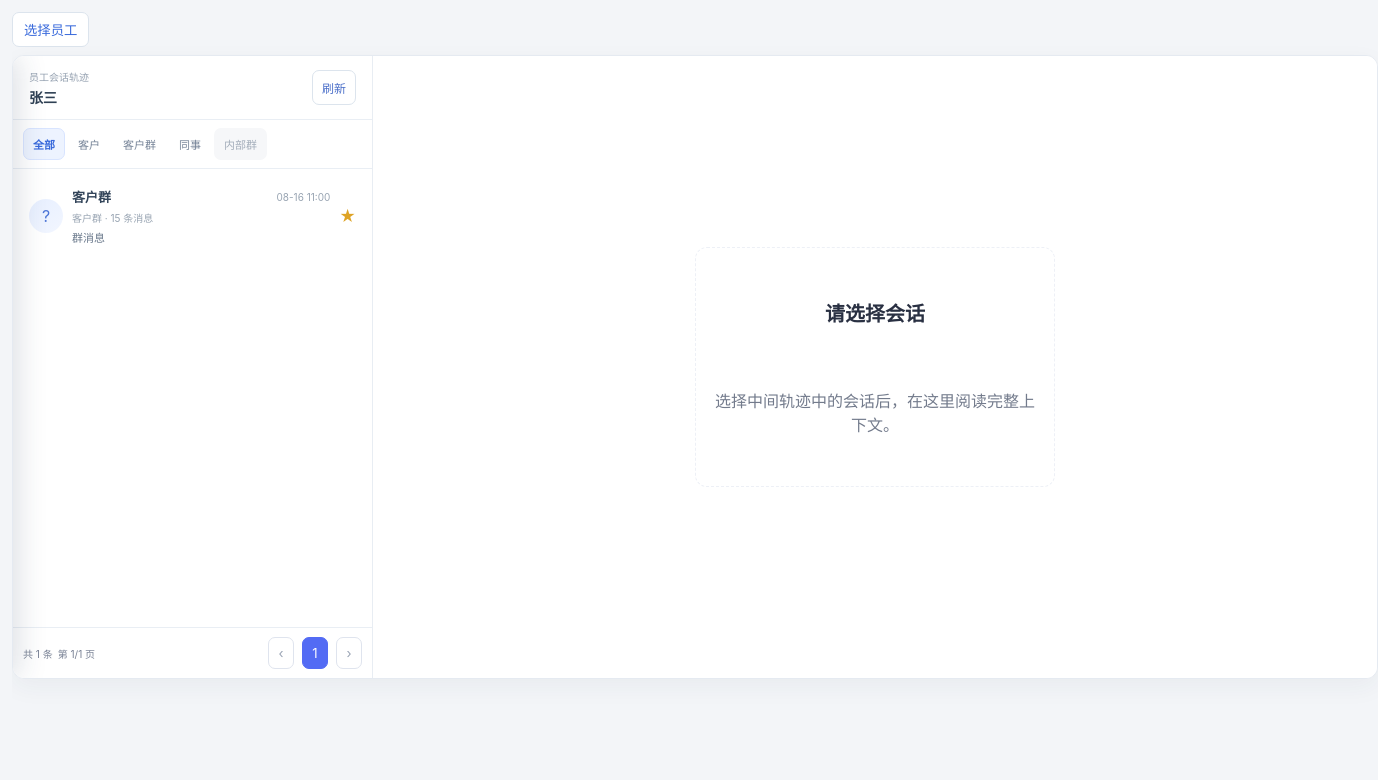
Scenario: EmployeeConversationPage › renders an unmapped customer group as a group and opens its real detail
Earlier steps of the test are not shown.
Expected: the button "客户群" does not show "客户群 0"
Click the button "? 客户群 08-16 11:00 客户群 · 15 条消息 群消息 ★". click: point(46, 216)
box: [19, 175, 366, 257]
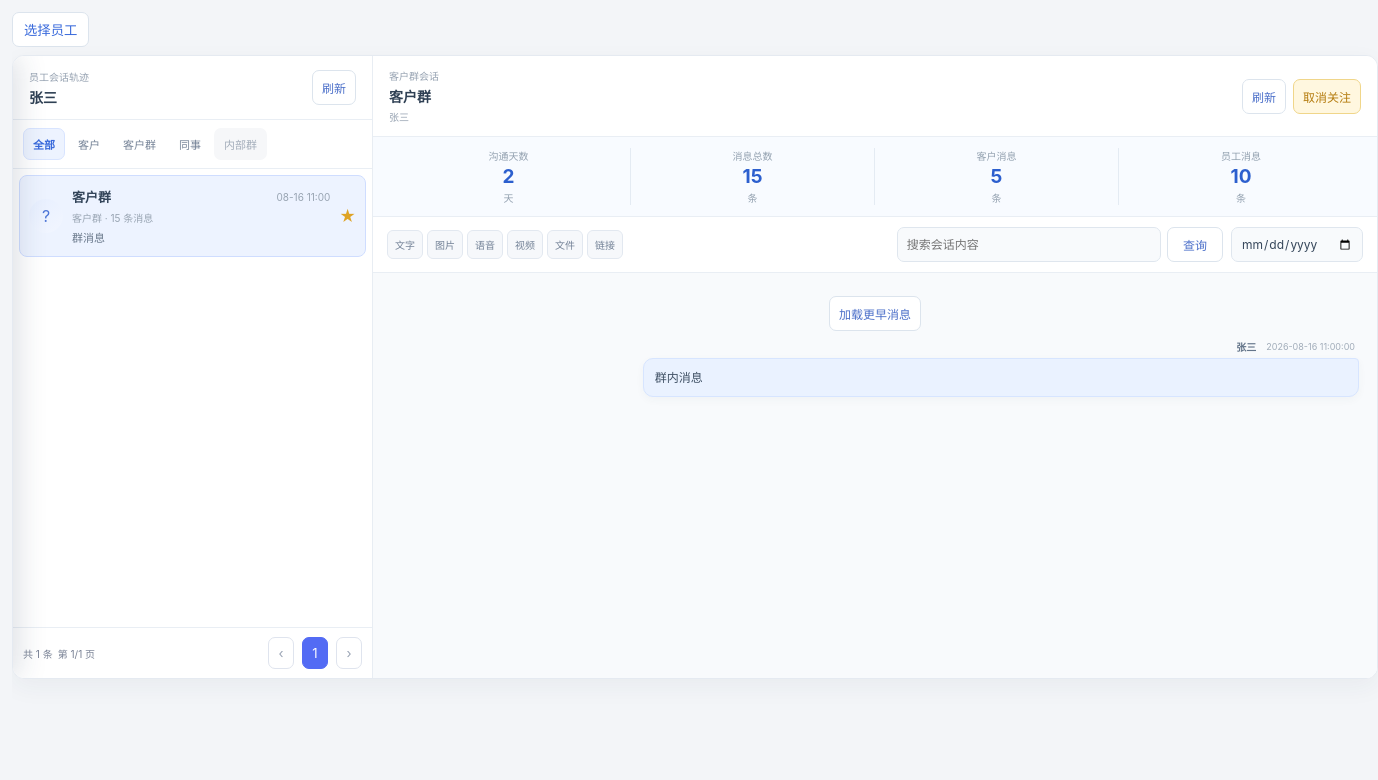
Expected: the text "客户群会话" is shown, [389, 68, 439, 83]
Expected: the text "群内消息" is shown, [655, 370, 703, 385]
